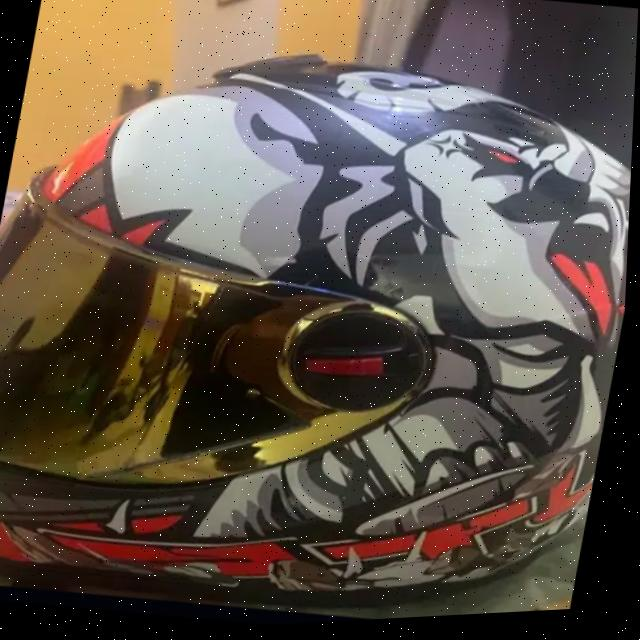Helmet: (0, 13, 629, 640)
